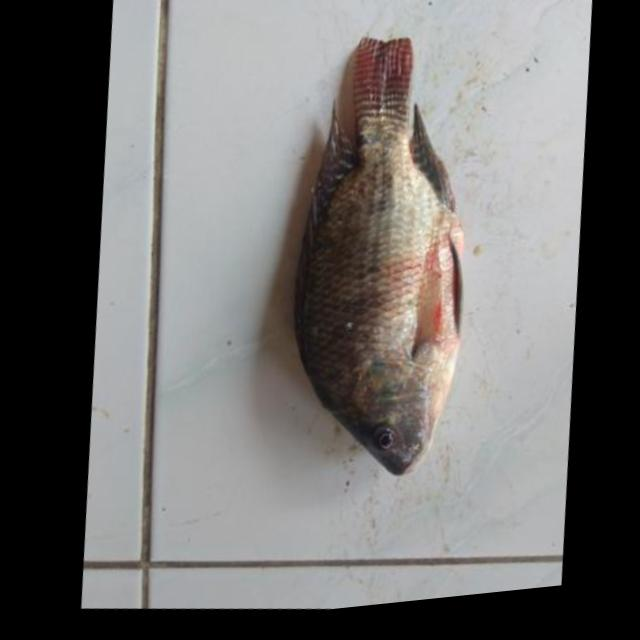Tilapia: (262, 17, 502, 497)
